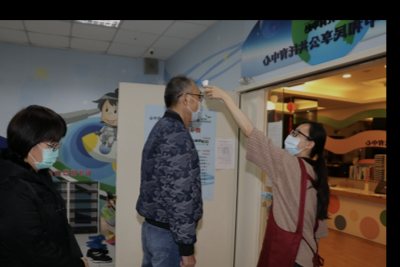with_mask: (32, 142, 60, 172), (282, 129, 305, 158), (187, 89, 204, 121)
